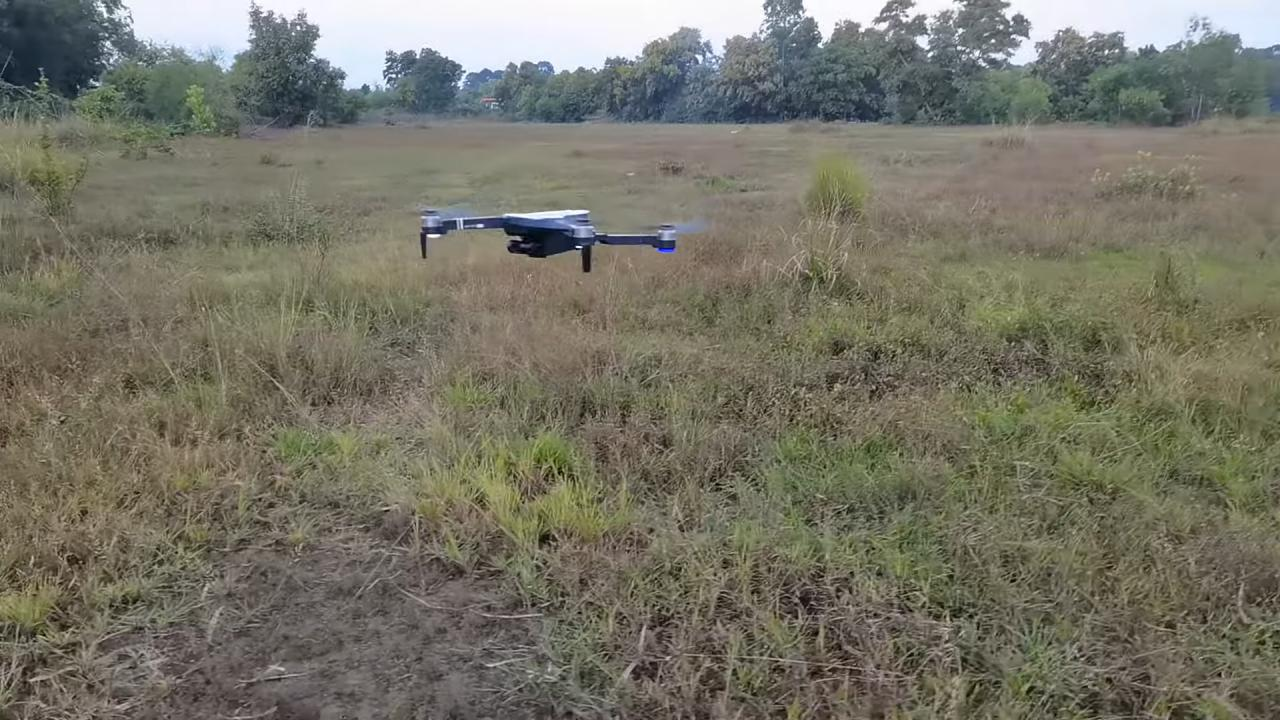Drone: (390, 192, 725, 286)
